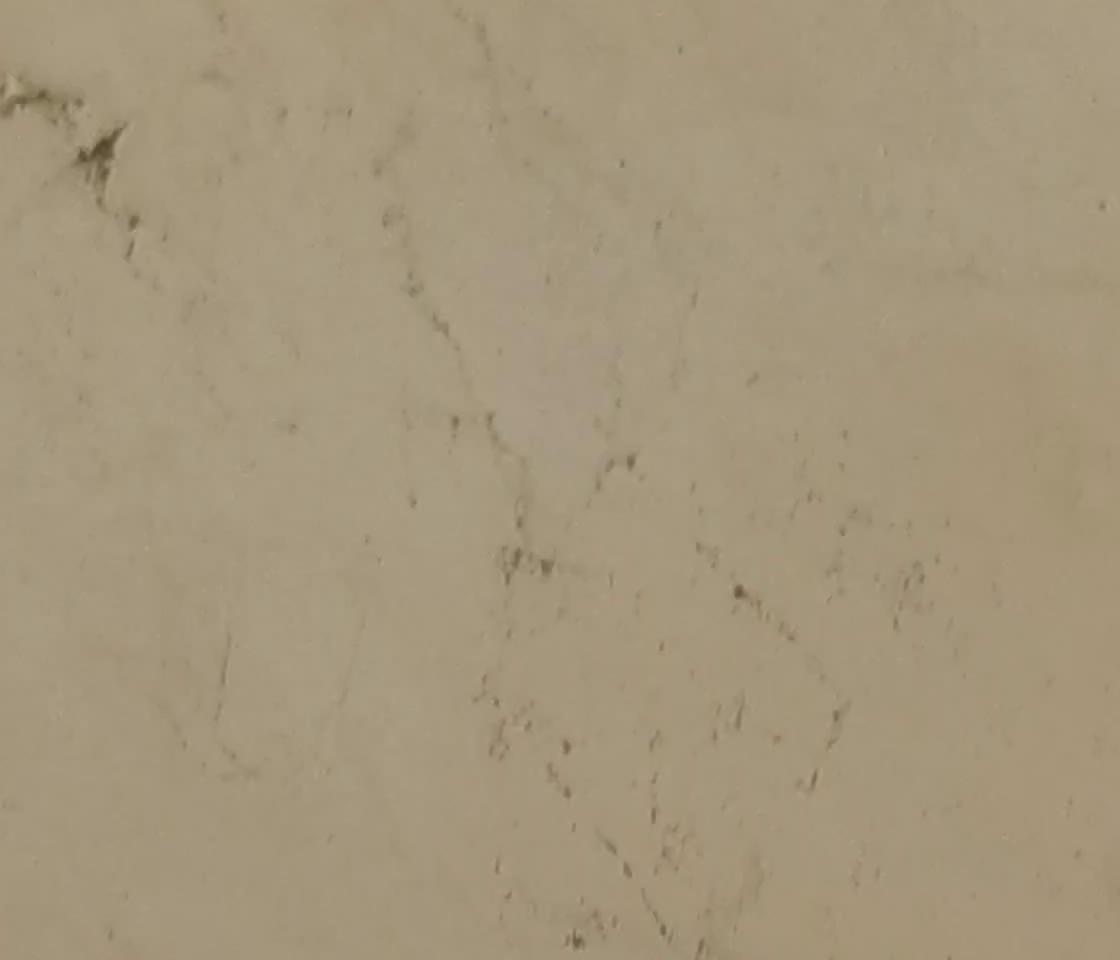scratch: (211, 625, 236, 723)
